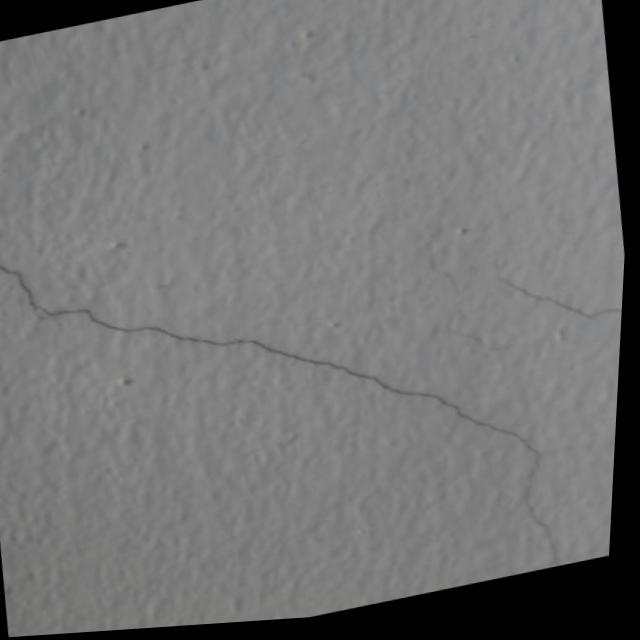Crack: (0, 123, 634, 640)
